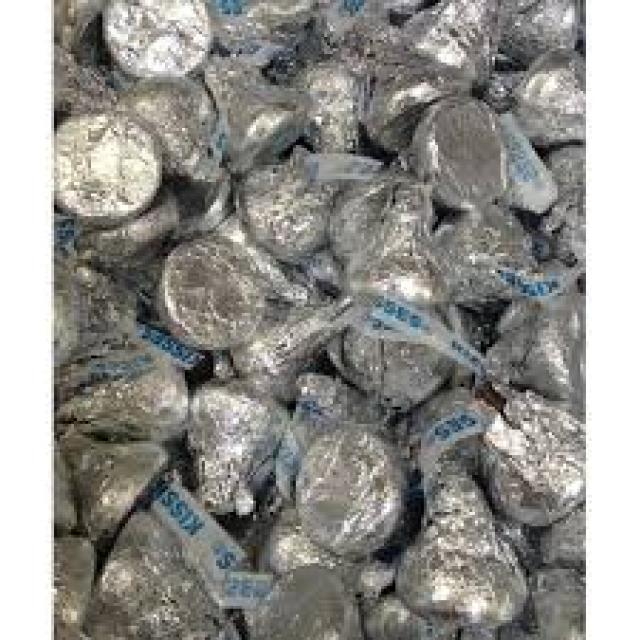kisses: (392, 452, 534, 628), (79, 506, 247, 640), (292, 428, 423, 564), (347, 21, 479, 152), (477, 383, 586, 527), (185, 378, 292, 524), (333, 286, 459, 408), (153, 231, 270, 360), (397, 92, 521, 212), (202, 51, 313, 181), (55, 110, 168, 230), (58, 426, 174, 541), (330, 161, 435, 276), (246, 556, 372, 640), (523, 40, 582, 154)
